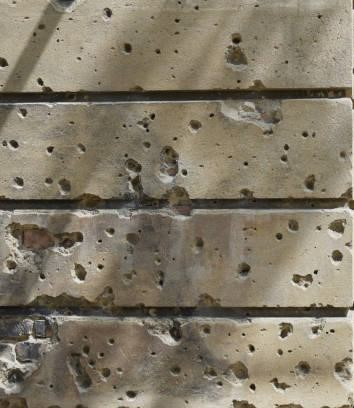Spalling: (1, 99, 349, 195), (1, 319, 354, 408), (1, 217, 345, 308), (1, 1, 268, 92)
